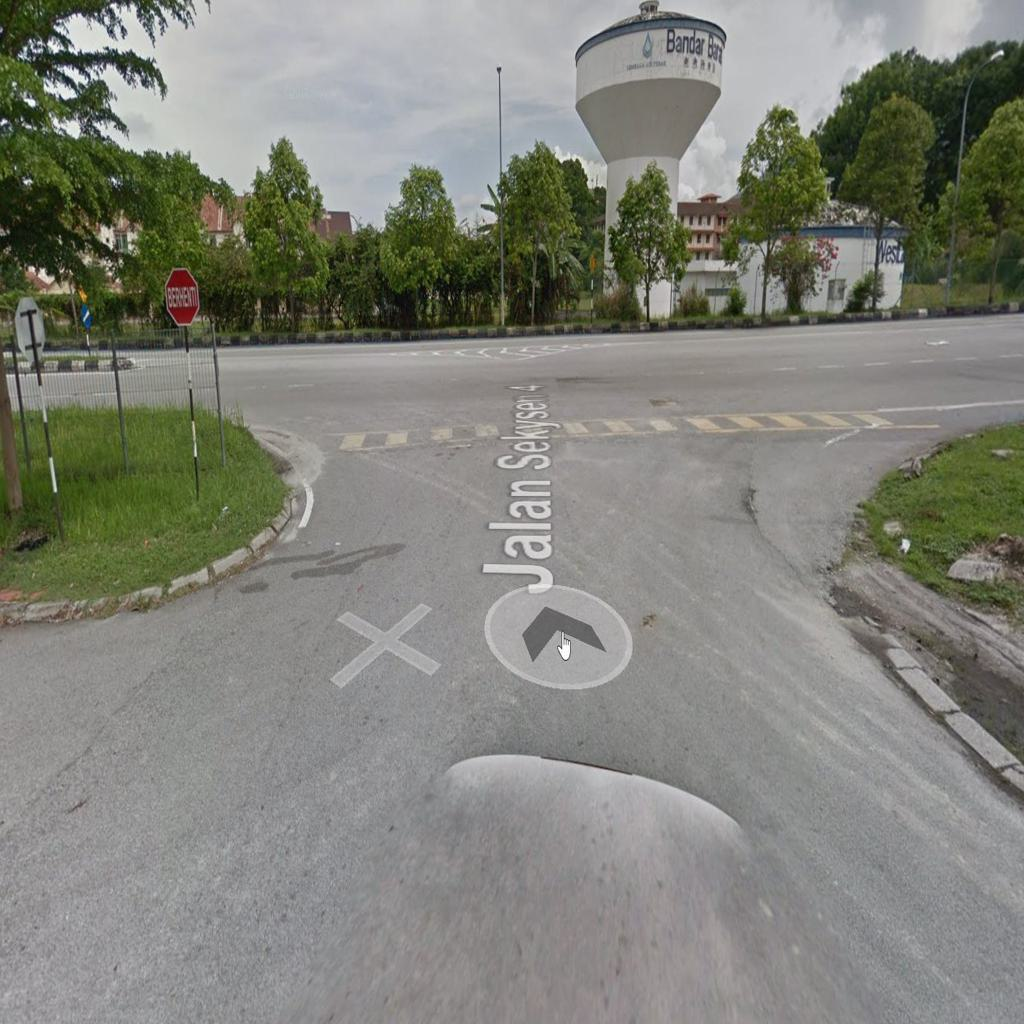Junction: (720, 288, 1024, 578), (51, 307, 351, 483)
